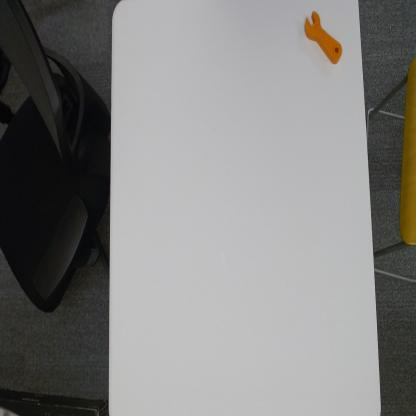Screwdriver: (301, 6, 342, 67)
